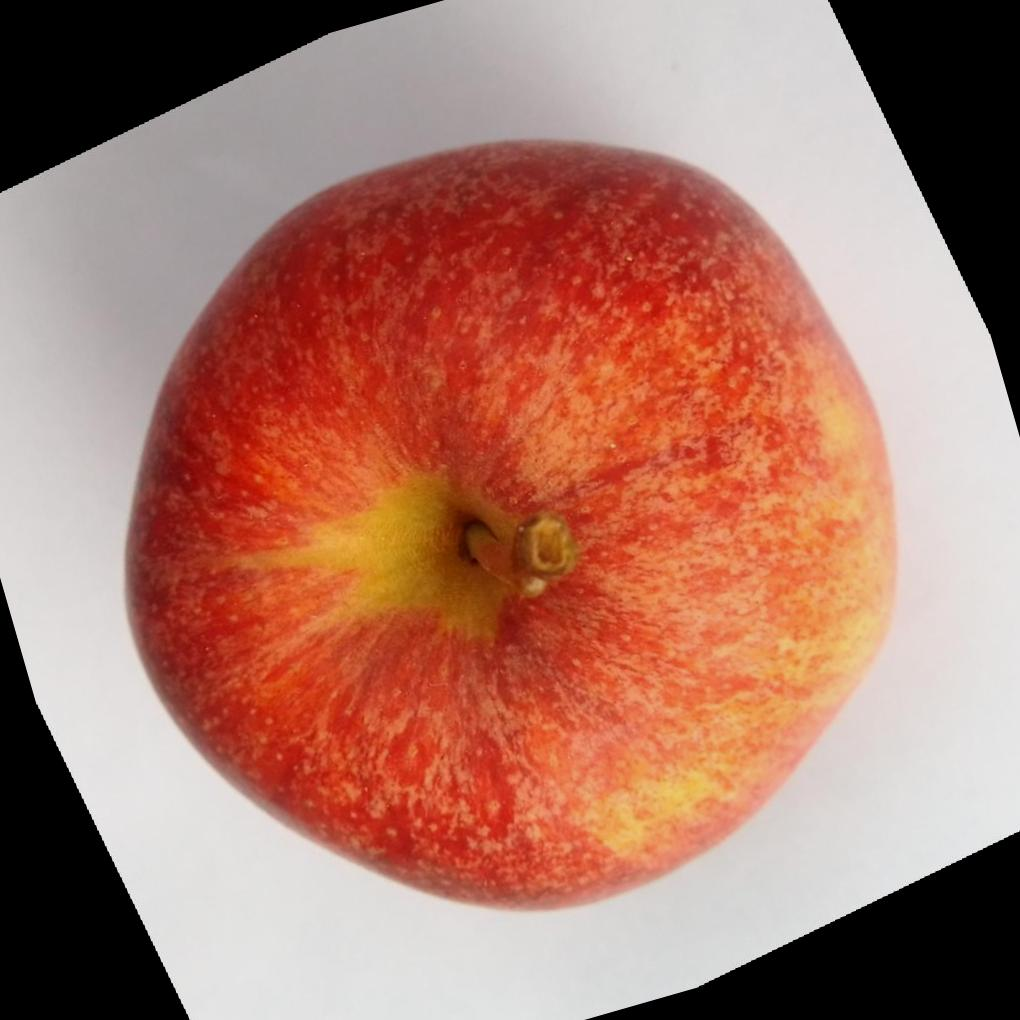FreshGuava: (122, 131, 899, 909)
